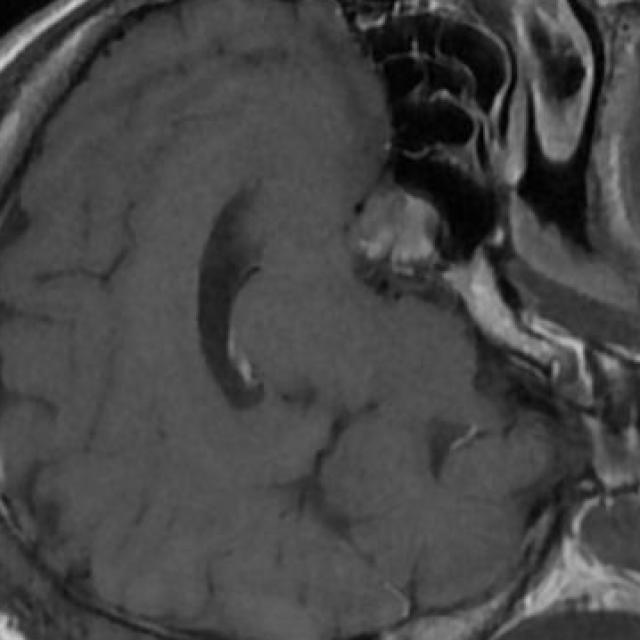pituitary: (357, 189, 439, 267)
